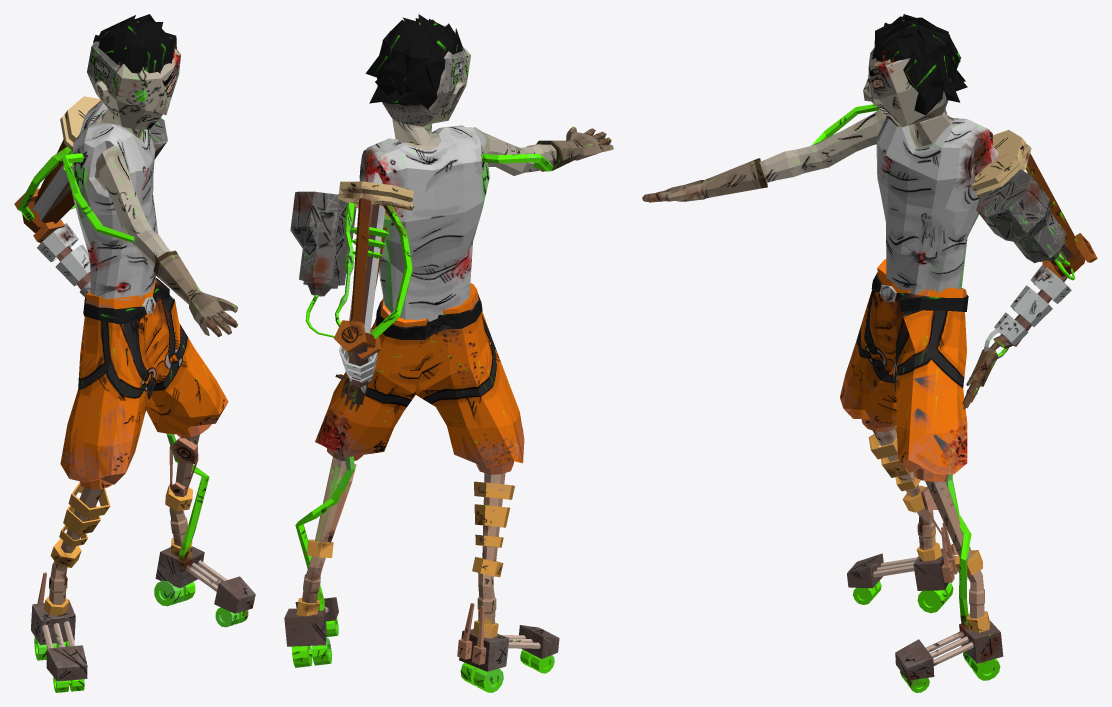
File: CyborgFINALAnimation_000009.obj
3 renders of one model, left to right at view 1: azimuth 30°, elevation 25°; view 2: azimuth 150°, elevation 25°; view 3: azimuth 270°, elevation 25°, orthographic. The views are drawn at different scales.
Parts seen in each view (by area): view 1: CyborgMesh_Cube.002; view 2: CyborgMesh_Cube.002; view 3: CyborgMesh_Cube.002.
Part boxes in pixels (bbox=[...]): CyborgMesh_Cube.002: bbox=[14, 14, 255, 692]; CyborgMesh_Cube.002: bbox=[284, 14, 613, 692]; CyborgMesh_Cube.002: bbox=[642, 14, 1097, 692].
Bounding box in the file's own units: 3.54 × 9.57 × 6.33.
